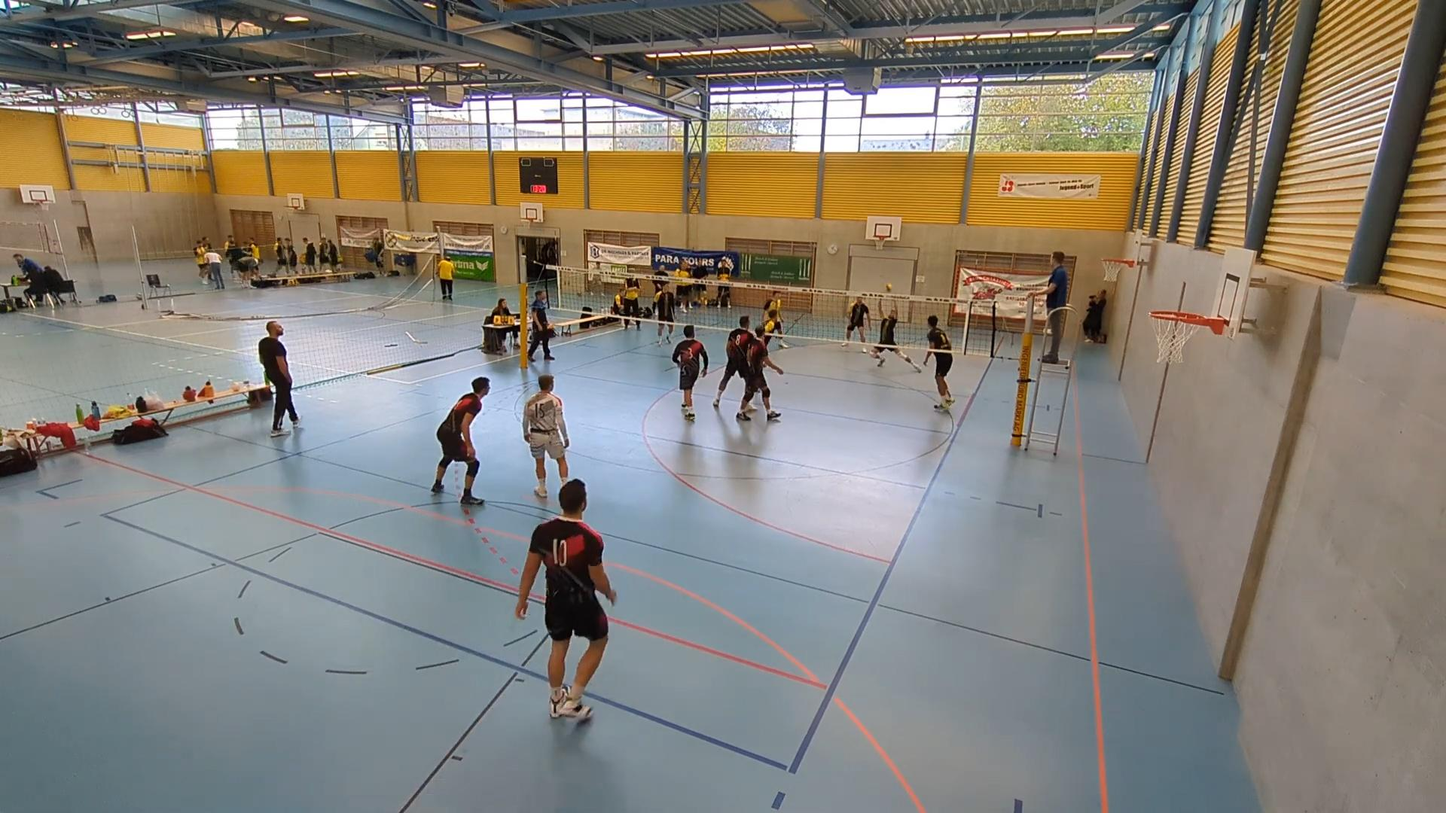Player: (514, 480, 616, 721), (431, 377, 489, 505), (523, 375, 569, 498), (736, 327, 783, 421), (713, 315, 755, 408), (672, 325, 709, 420), (924, 315, 954, 410), (765, 291, 789, 349), (842, 297, 869, 347), (759, 309, 789, 349)
Receive: (870, 276, 925, 383)
ball: (881, 279, 896, 297)
